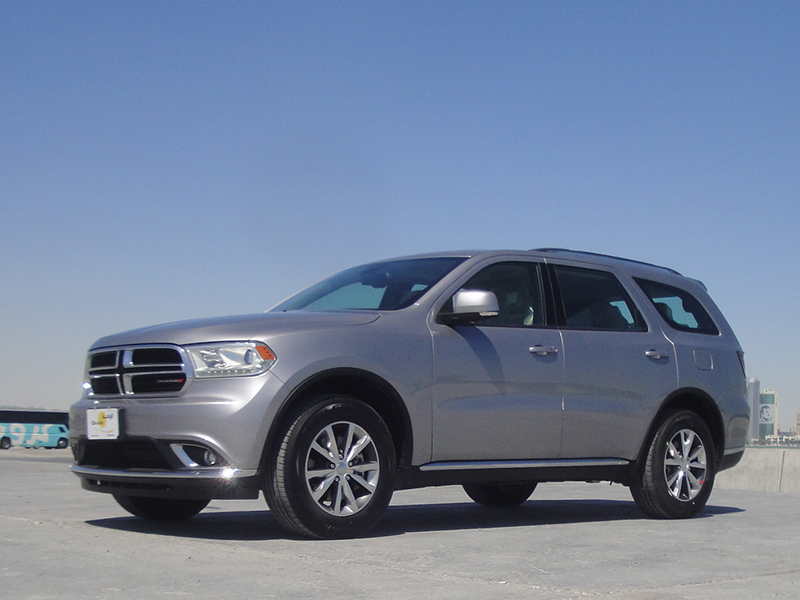other: (74, 241, 756, 549)
